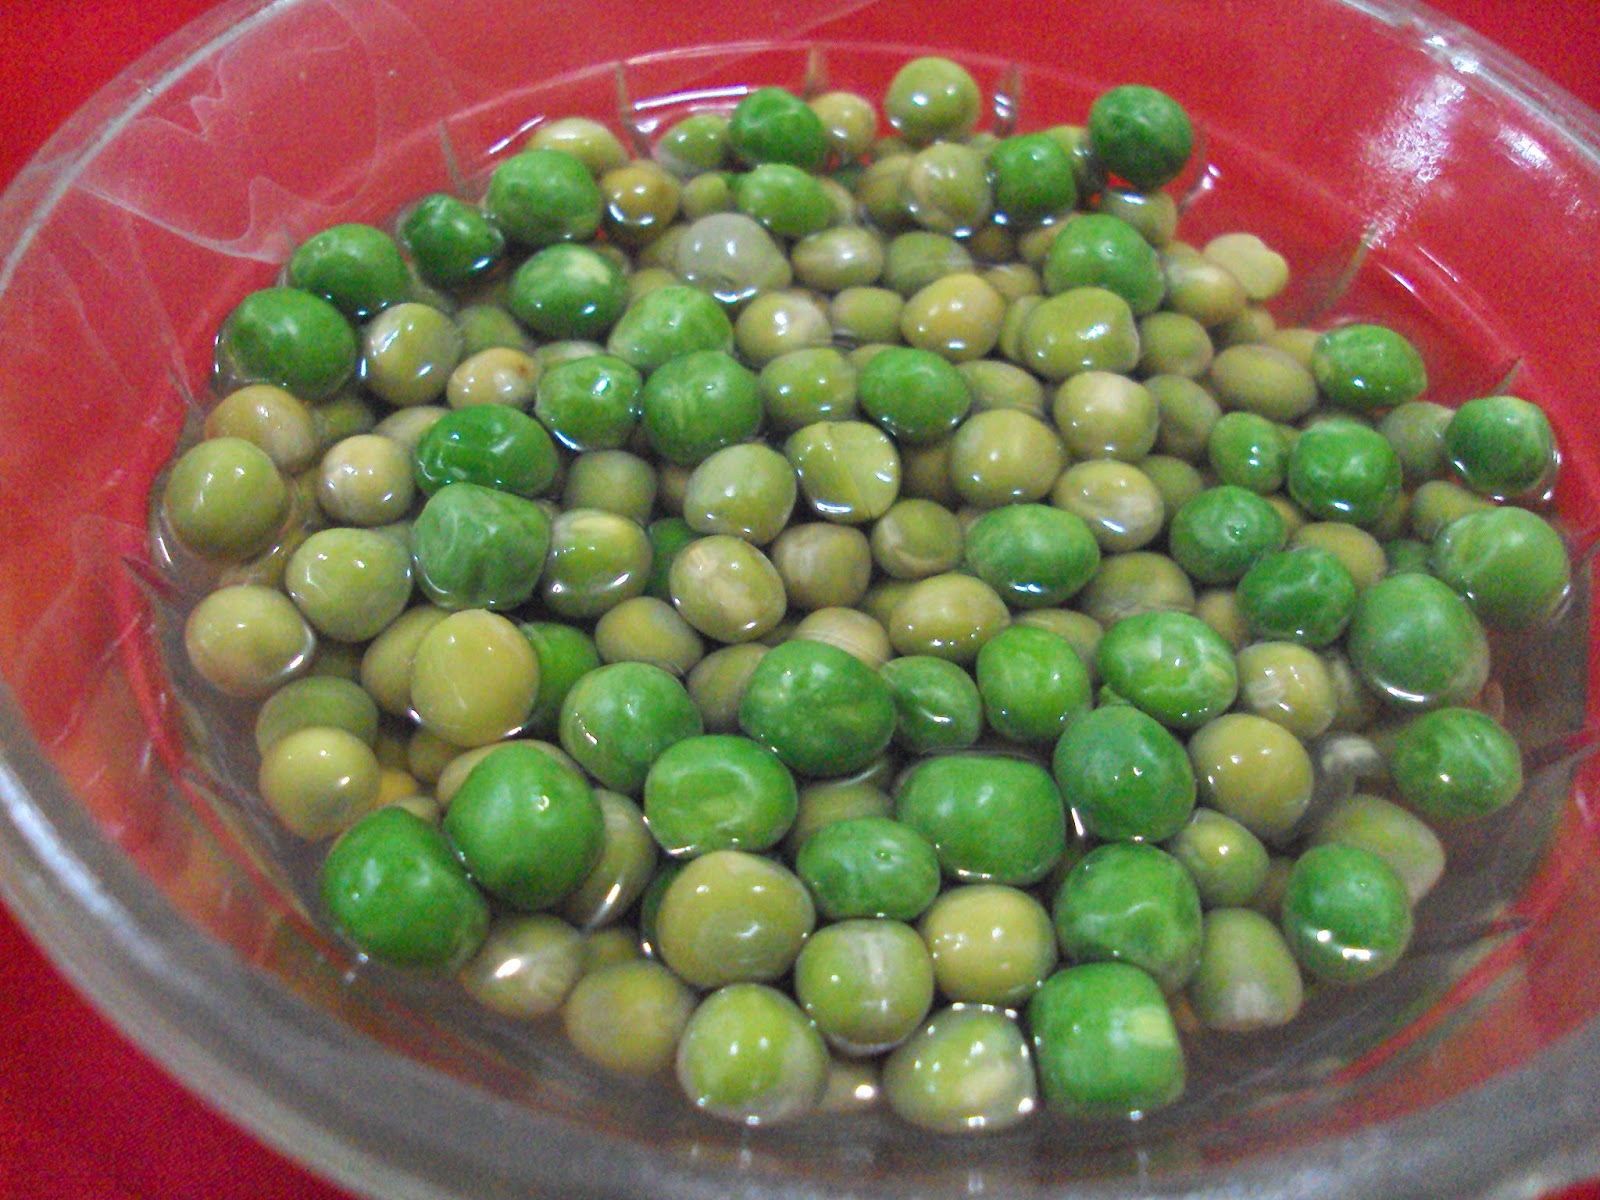boiled peas: (344, 232, 1460, 1012)
